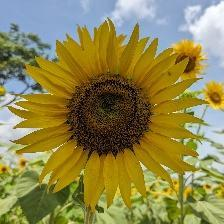sunflower: (8, 18, 212, 212)
